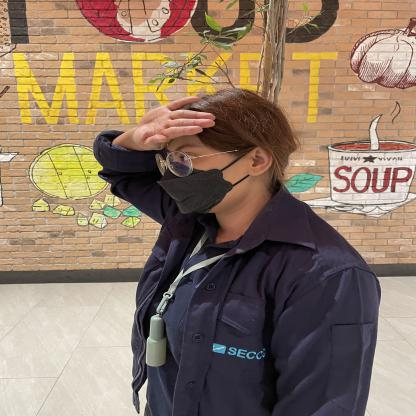Sick: (66, 50, 237, 162)
